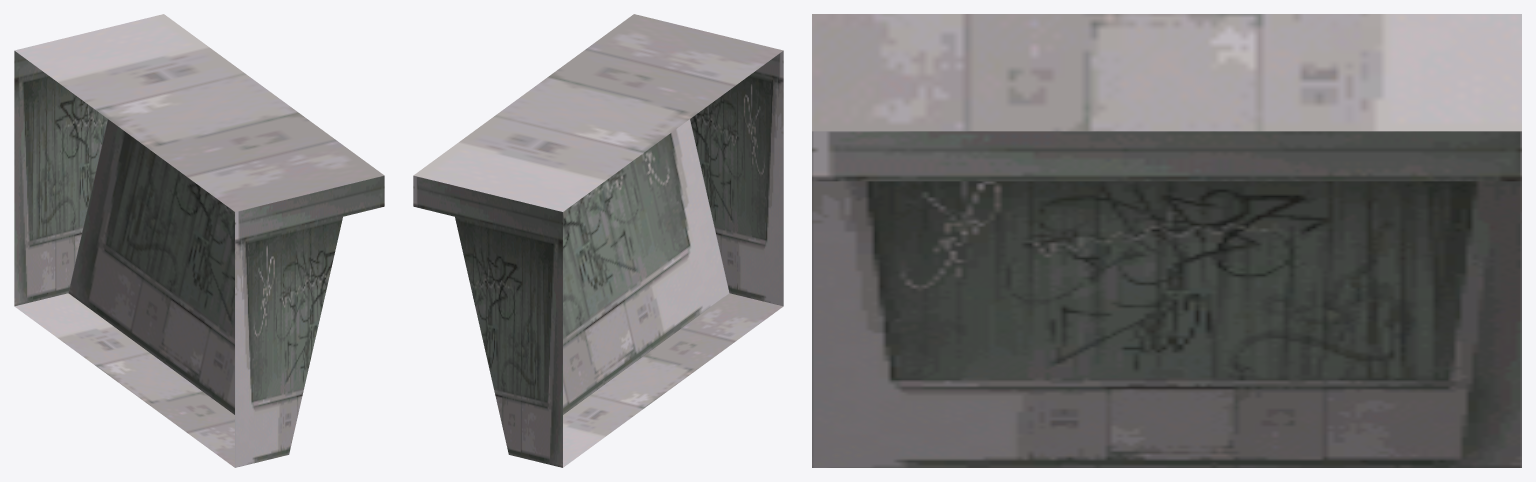
Rendered from vgsclubox01.obj.
The picture shows the model from 3 angles, left to right: view 1: azimuth 30°, elevation 25°; view 2: azimuth 150°, elevation 25°; view 3: azimuth 270°, elevation 25°; orthographic projection. The views are drawn at different scales.
Visible parts, largest first — view 1: vgsclubox01; view 2: vgsclubox01; view 3: vgsclubox01.
Boxes of the visible parts, x1,y1,x2,y2 form: vgsclubox01: (14, 14, 384, 467); vgsclubox01: (413, 14, 783, 467); vgsclubox01: (812, 14, 1521, 467).
Bounding box in the file's own units: 0.7523 × 1.23 × 1.92.
Materials: 1 (1 with a texture image).
